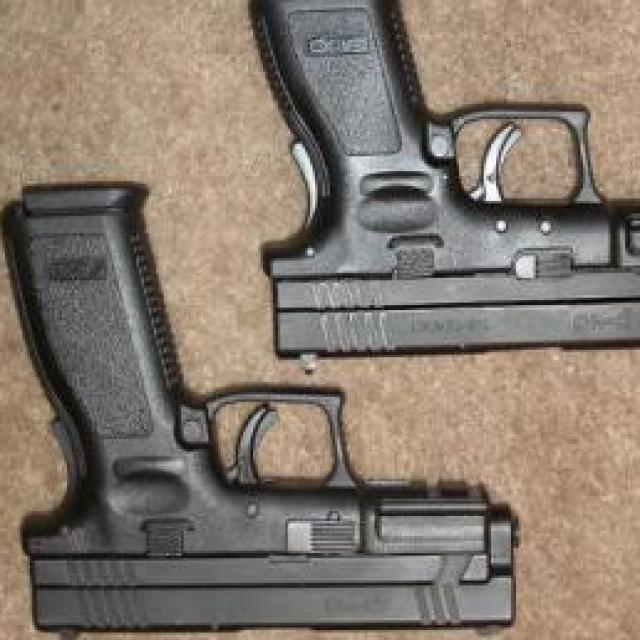pistol: (2, 181, 516, 640), (251, 1, 640, 370)
